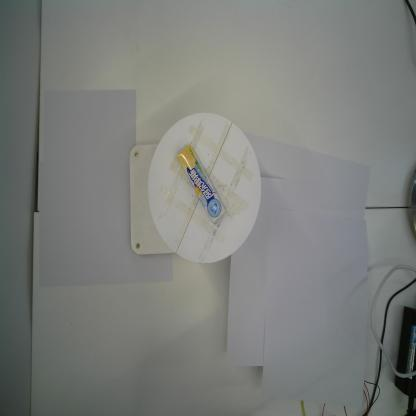Candy: (177, 144, 226, 224)
